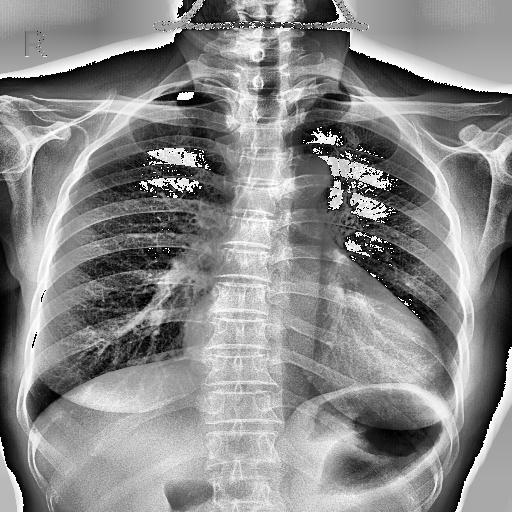3- Cardiomegaly: (184, 314, 444, 409), (178, 297, 442, 390), (176, 328, 444, 390)
